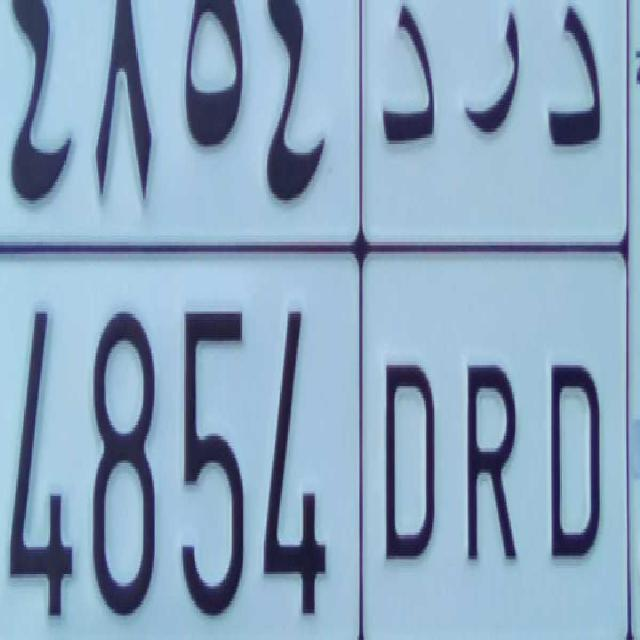license_plate: (0, 234, 622, 640)
